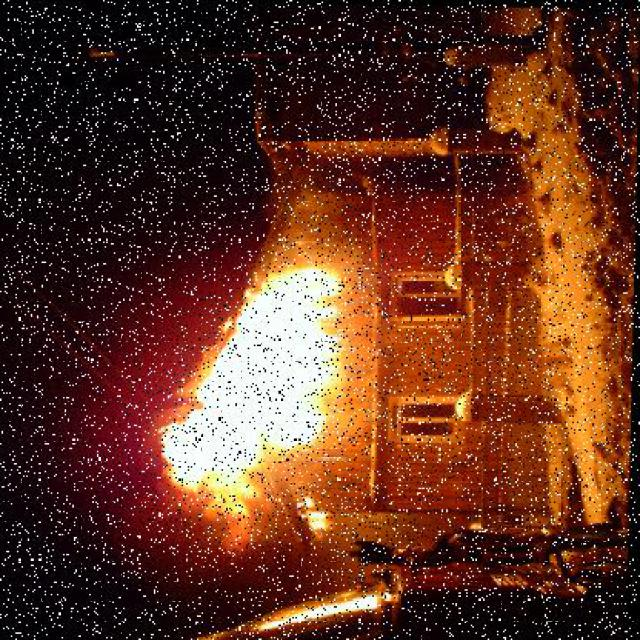fire: (116, 255, 345, 544)
